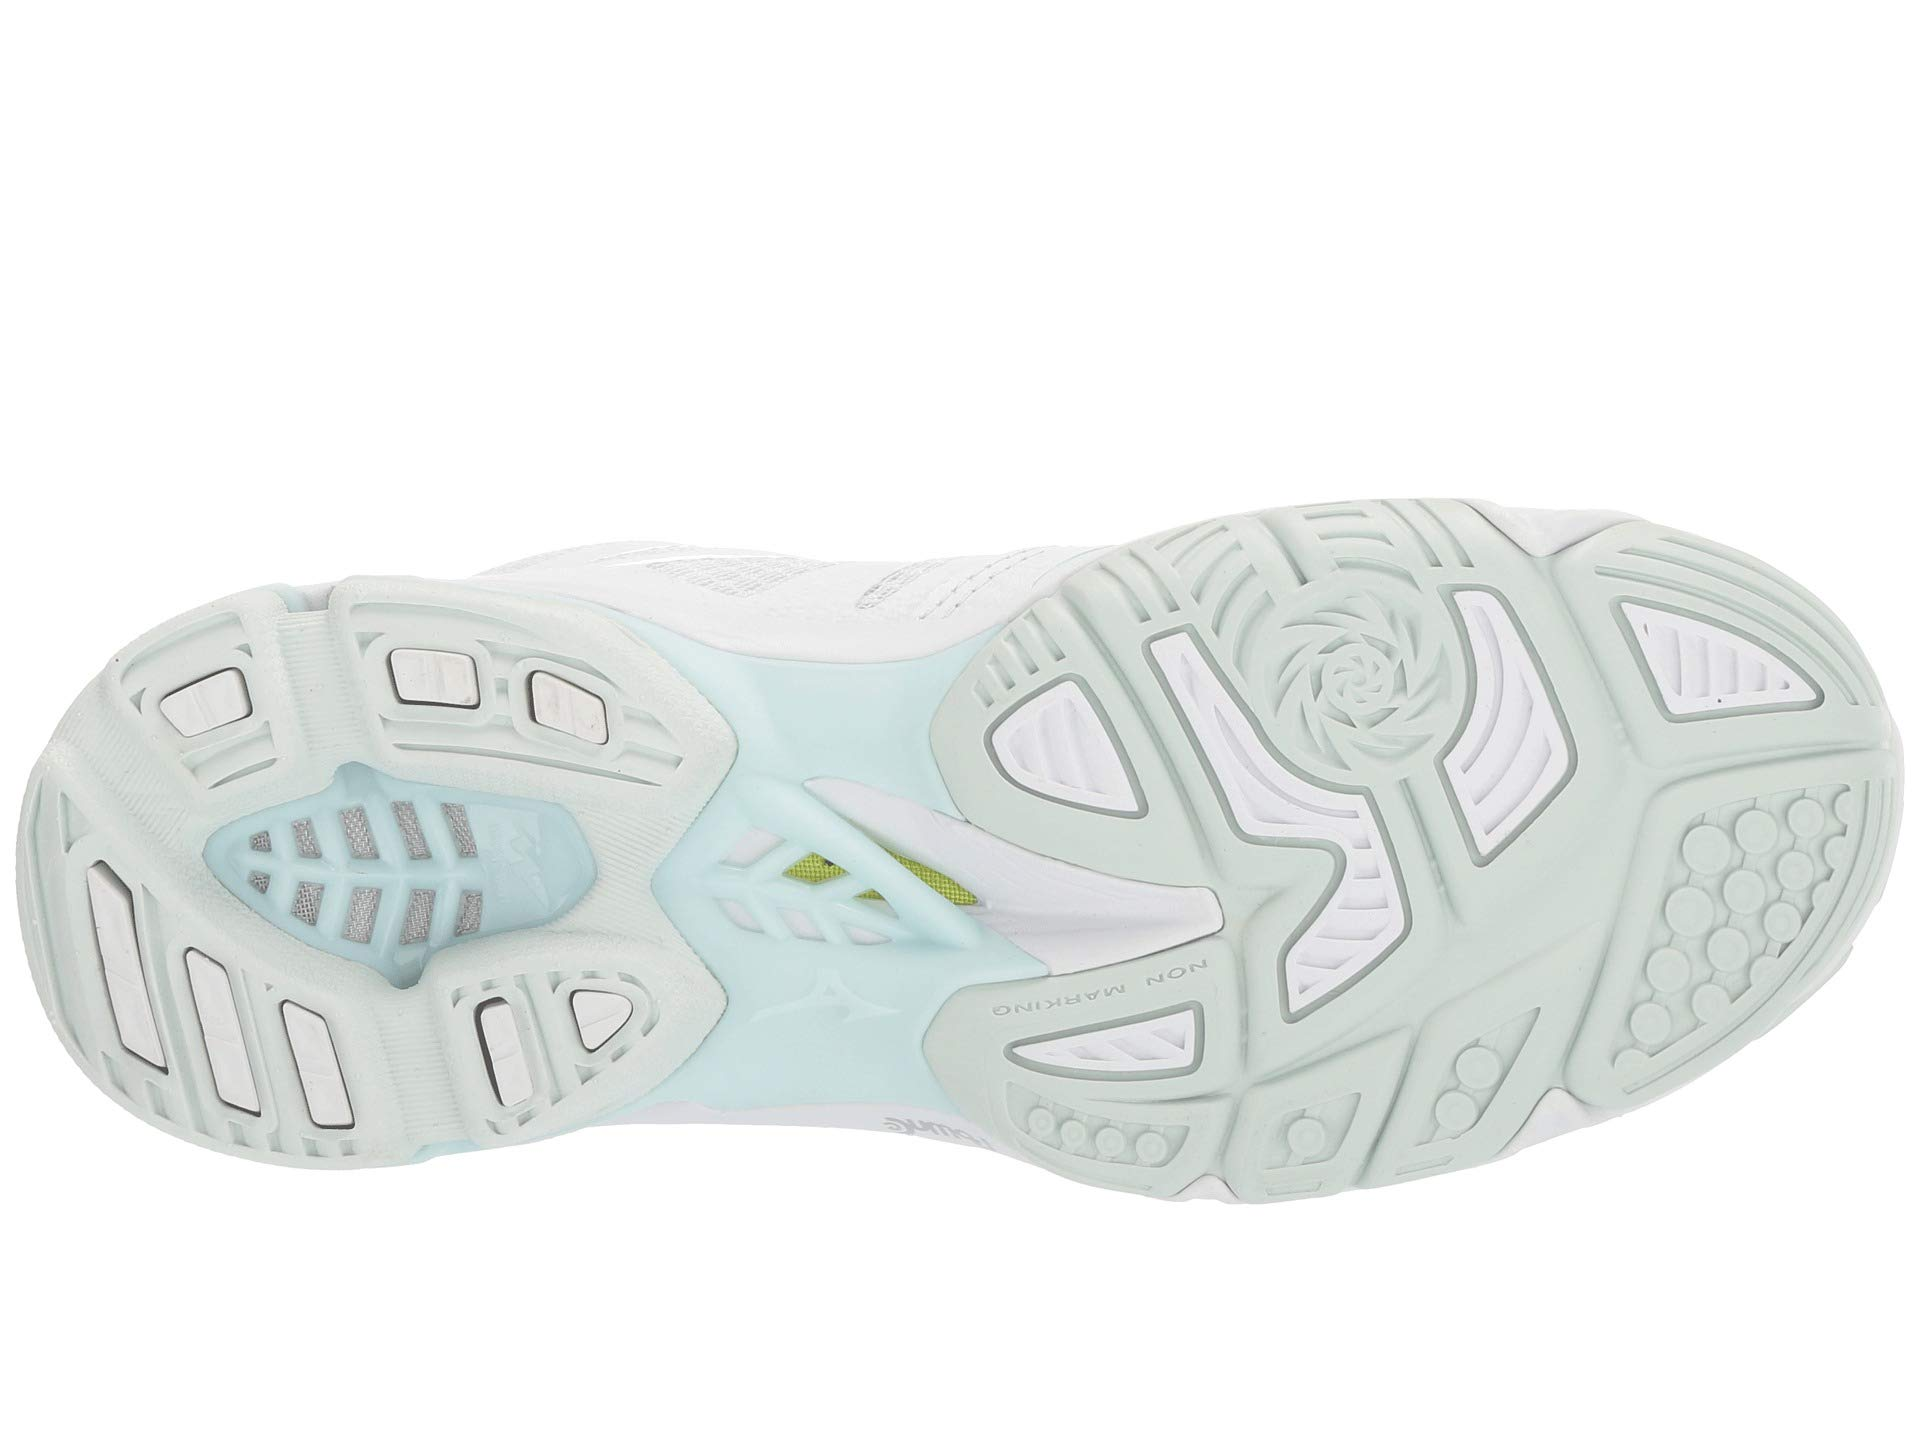circle: (1677, 802, 1850, 973)
line: (1601, 569, 1826, 773)
quad: (271, 790, 458, 957)
triangle: (1601, 569, 1826, 773)
